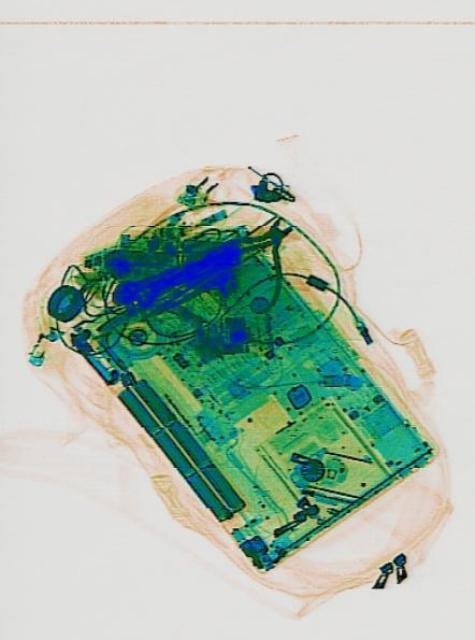Pliers: (205, 188, 312, 318)
